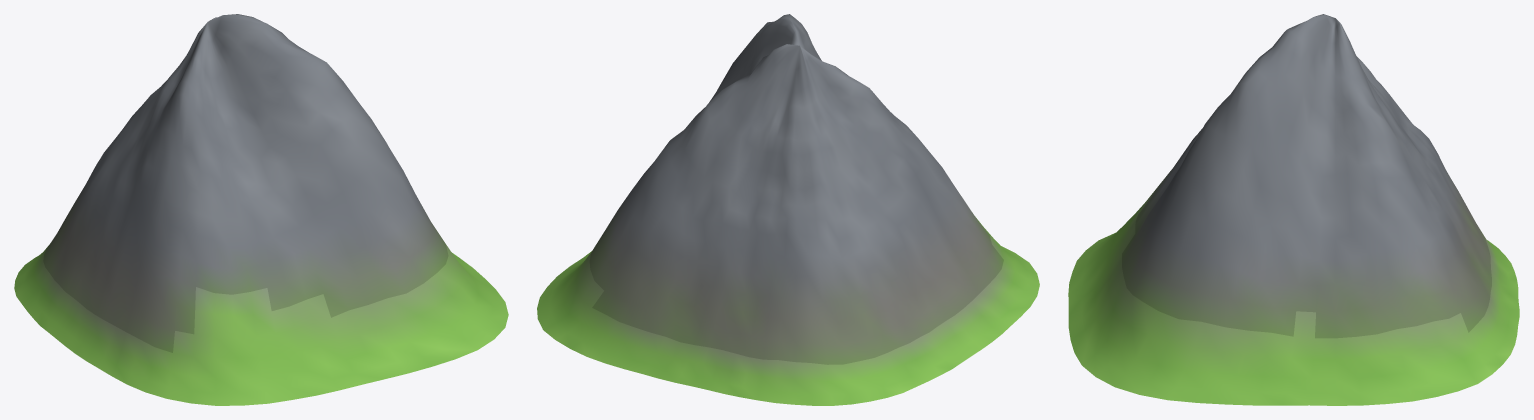
File: decor_montagne_toutes_3.glb
3 views of the same model, side by side, from view 1: azimuth 30°, elevation 25°; view 2: azimuth 150°, elevation 25°; view 3: azimuth 270°, elevation 25° (orthographic).
Visible parts, largest first — view 1: relief; view 2: relief; view 3: relief.
Boxes of the visible parts, bbox=[...] form: relief: bbox=[14, 14, 508, 405]; relief: bbox=[537, 14, 1039, 405]; relief: bbox=[1068, 14, 1519, 405].
Bounding box in the file's own units: 0.9462 × 0.66 × 0.9422.
